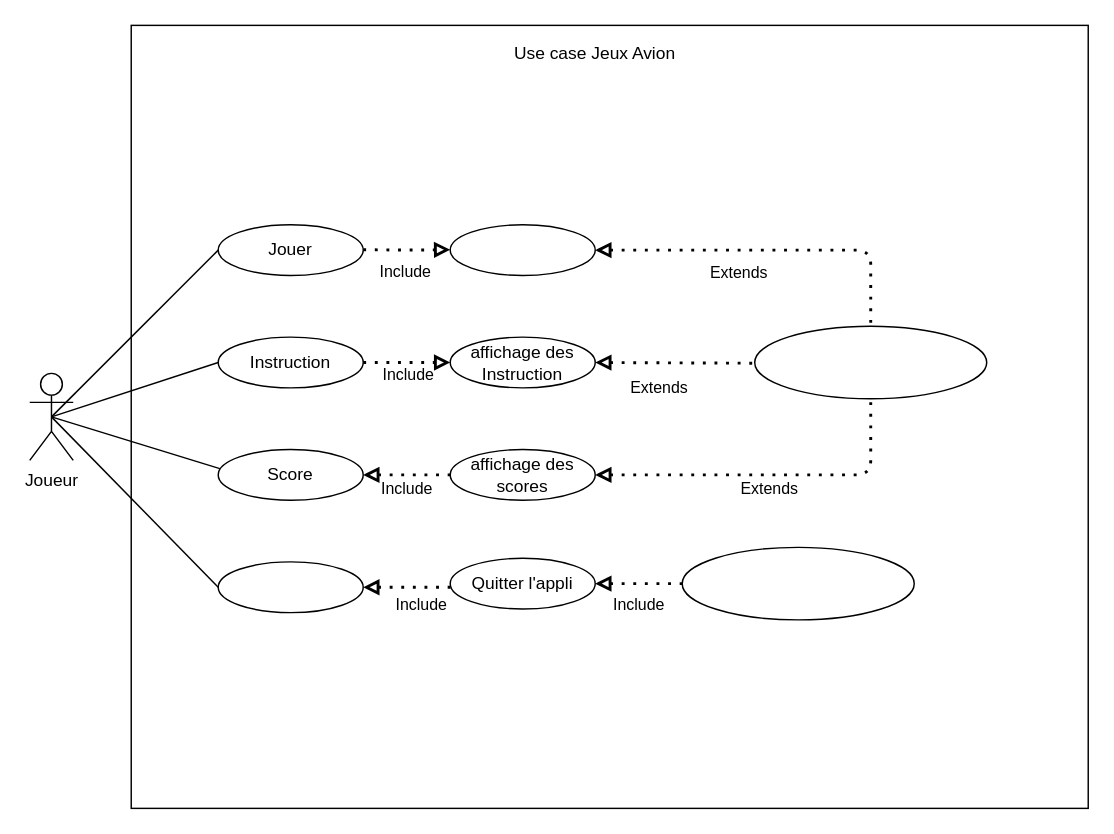
This 1114x834 diagram has some shape labels left out. Each missing label, with the centre of its shape:
Lancement de partie: [522,249]
Message Fenêtre pop Up "Fermeture du jeux": [797,583]
Message Fenêtre pop Up "Que voulez vous faire ?": [870,362]
Quitter: [290,586]
